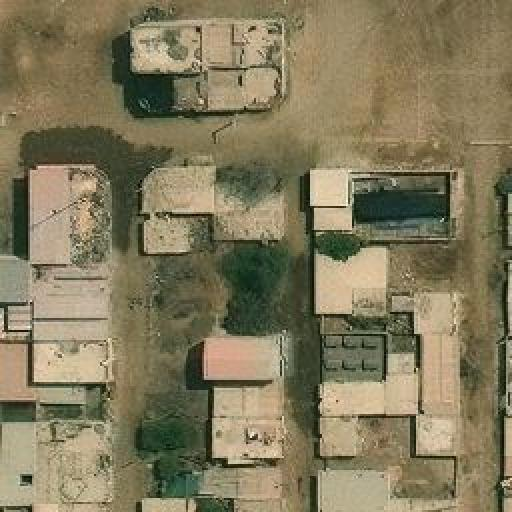manzanas: (140, 159, 297, 510), (311, 159, 468, 510), (0, 169, 115, 510), (132, 11, 296, 112)
